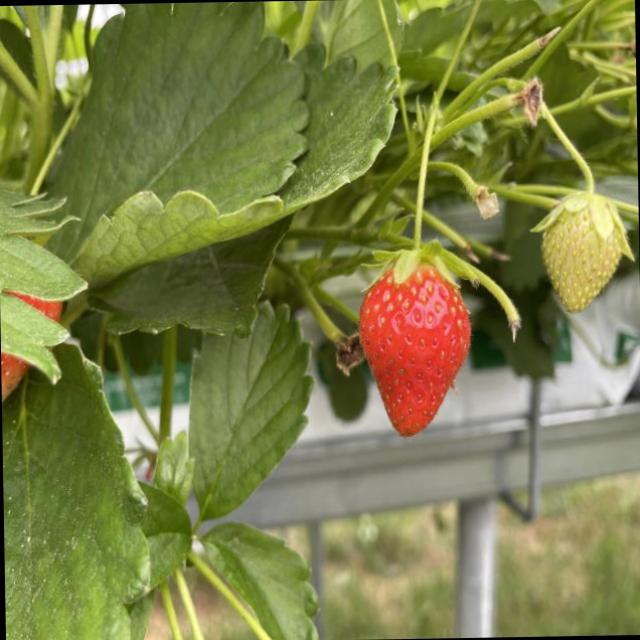stem: (366, 97, 491, 285), (530, 123, 638, 254)
strawberryNR: (542, 210, 624, 311)
strawberryR: (359, 265, 467, 434), (0, 350, 26, 398)
